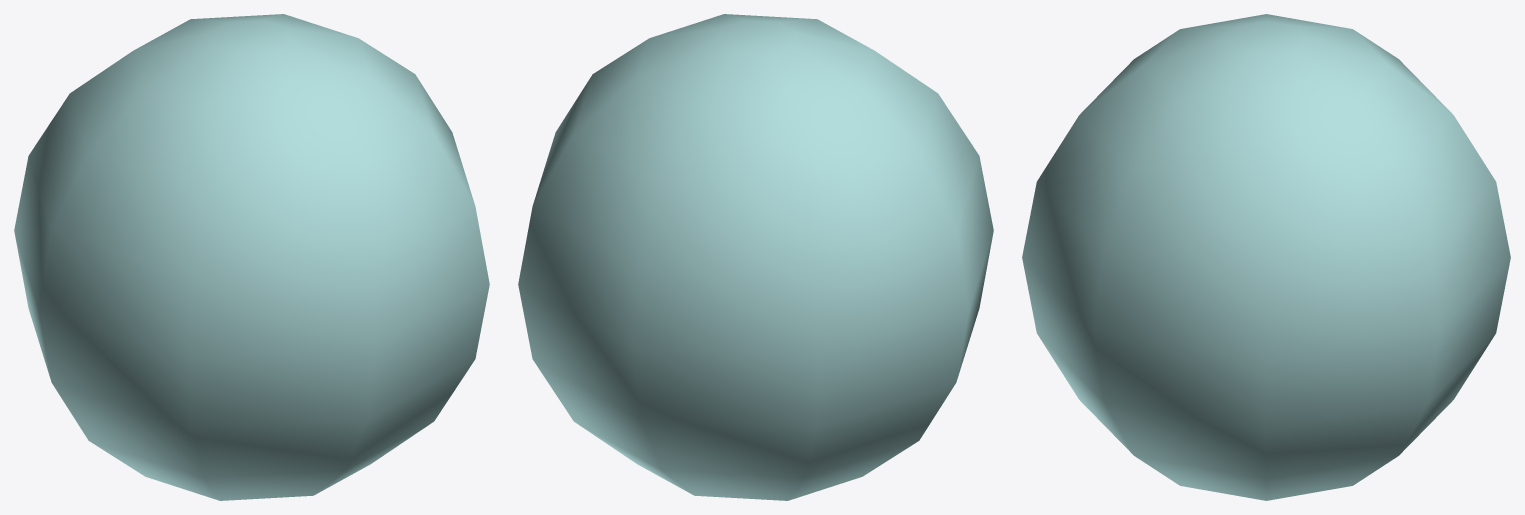
The model's file is ctbe.hrc.gltf.
The picture shows the model from 3 angles, left to right: view 1: azimuth 30°, elevation 25°; view 2: azimuth 150°, elevation 25°; view 3: azimuth 270°, elevation 25°; orthographic projection.
Parts seen in each view (by area): view 1: ctbeBone0_null; view 2: ctbeBone0_null; view 3: ctbeBone0_null.
Boxes of the visible parts, x1,y1,x2,y2 form: ctbeBone0_null: (14,14,489,500); ctbeBone0_null: (518,14,993,500); ctbeBone0_null: (1022,14,1510,500).
Size of the model in its own units: 4.65 by 4.58 by 4.65.
